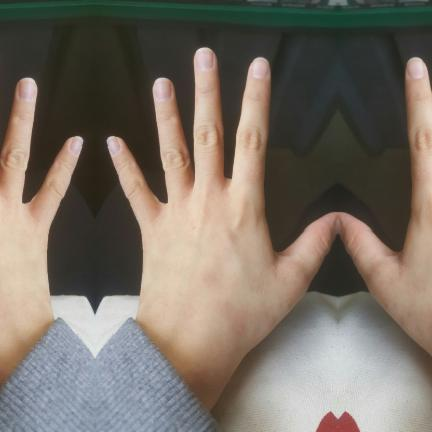Nail: (195, 48, 213, 72), (251, 57, 269, 80), (405, 57, 423, 80), (153, 78, 170, 102), (18, 78, 35, 102), (105, 135, 119, 155), (69, 135, 83, 155)
